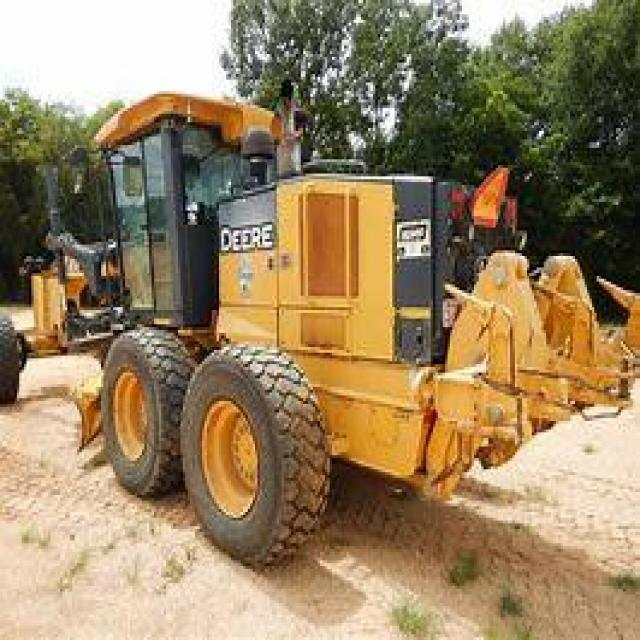Grader: (0, 71, 638, 569)
